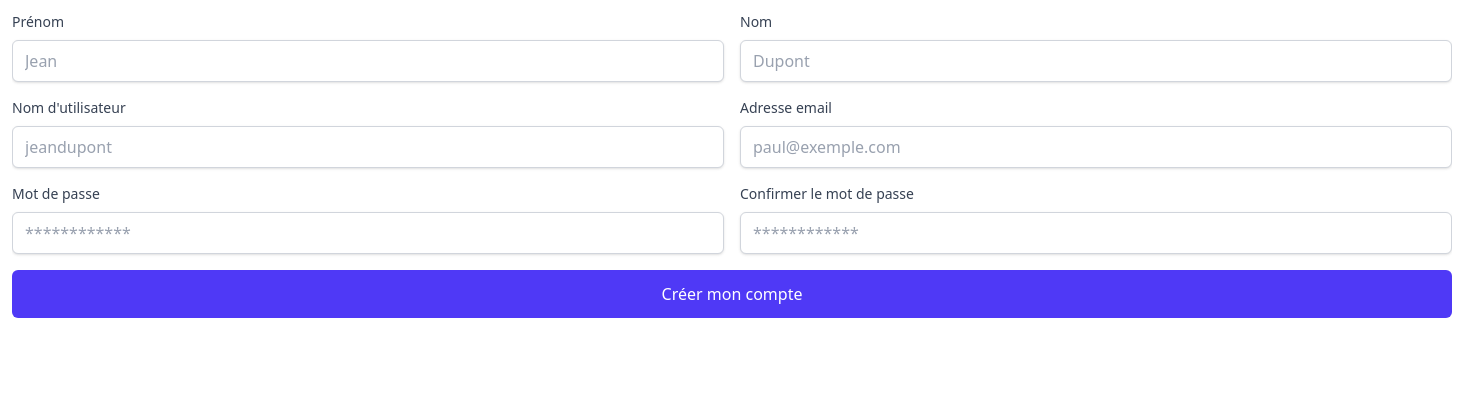
Test: RegisterForm › should show email required error on empty submit
The width and height of the screenshot is (1464, 407).
Click the button "Créer mon compte". click: (732, 294)
box: [12, 270, 1452, 318]
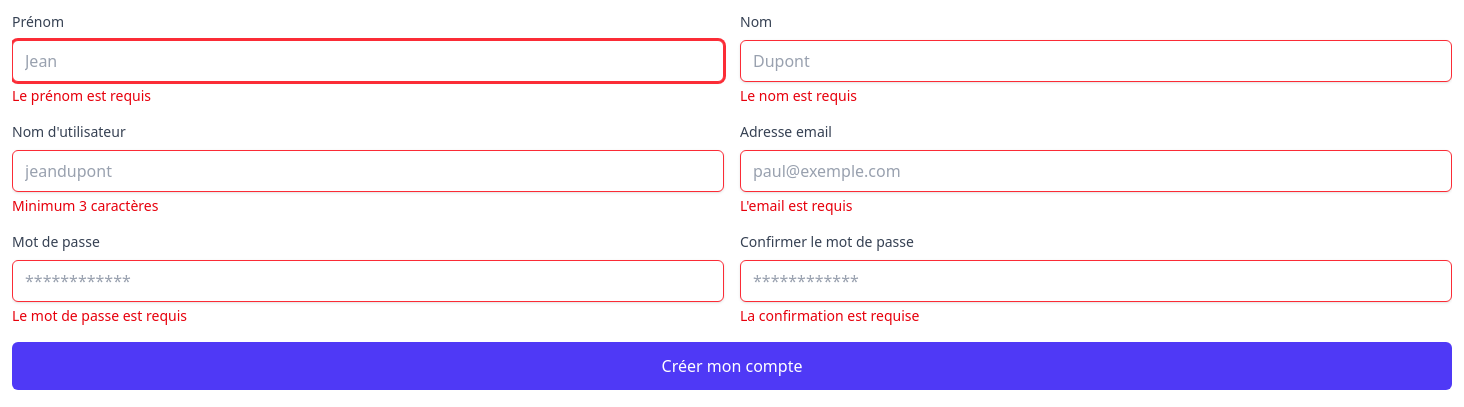
Expected: the text "L'email est requis" is shown, [740, 196, 852, 215]
